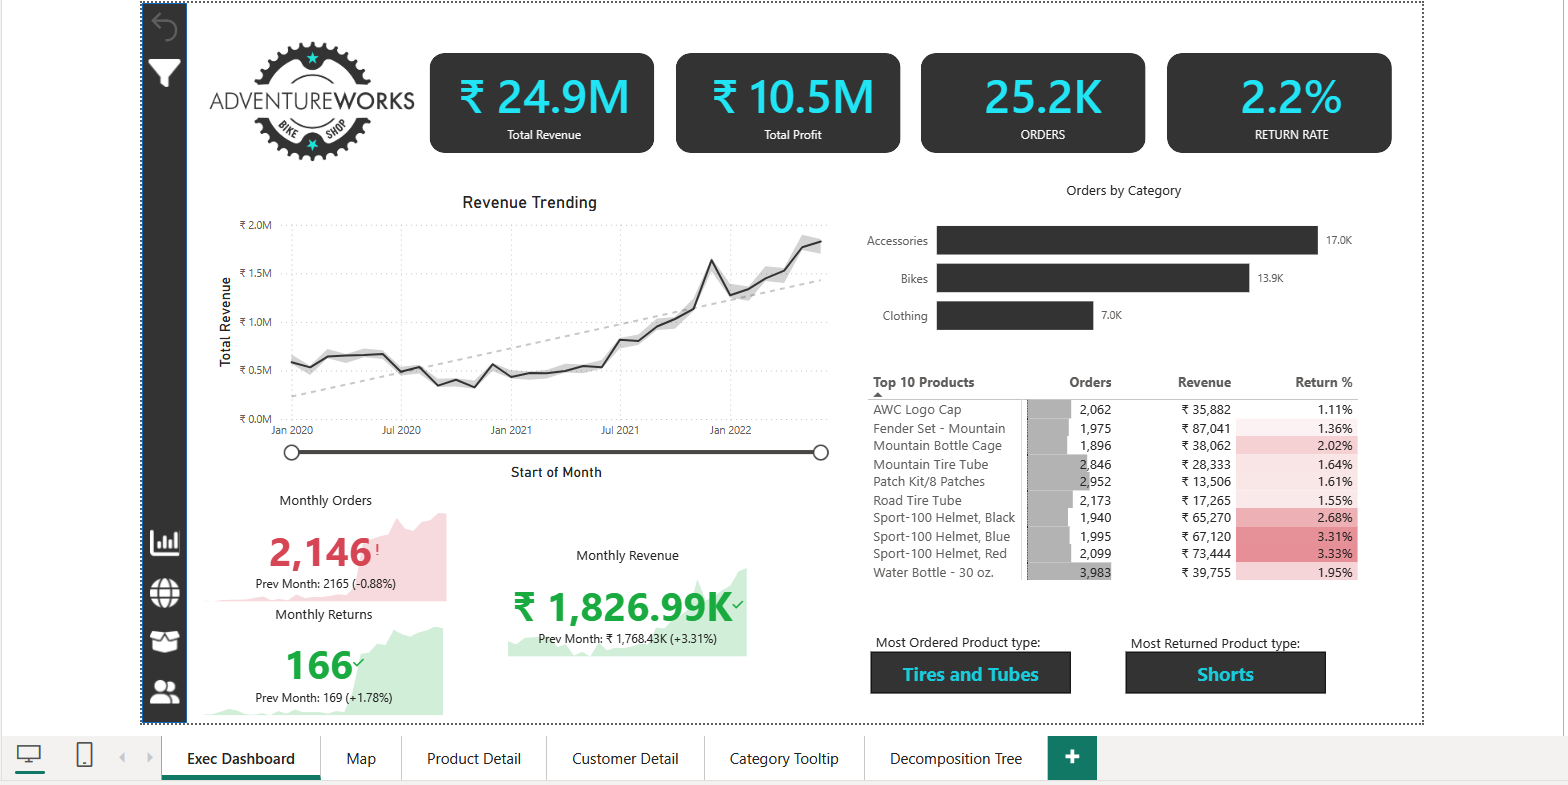

The dashboard page shown, as its layout file describes it:
{"tool":"powerbi","page":{"name":"Exec Dashboard","canvas":[1280,720],"ordinal":0},"visuals":[{"type":"image","title":"AW Logo","box":[45,10,251.2,176.2],"z":0},{"type":"cardVisual","fields":{"Data":["Measure Table.Total Revenue"]},"box":[270.6,11.2,262.2,176.7],"z":0,"group":"g2"},{"type":"shape","box":[286.5,50,225,100],"z":0,"group":"g1"},{"type":"group","id":"g1","title":"KPI Background","box":[286.5,50,962.5,100],"z":0,"group":"g3"},{"type":"actionButton","box":[0,521.2,45,37.5],"z":0,"group":"g4"},{"type":"shape","title":"Left Nav Background","box":[0,0,45,720],"z":1000},{"type":"group","id":"g2","title":"KPI Values","box":[270.6,11.2,1009.4,176.7],"z":1000,"group":"g3"},{"type":"cardVisual","fields":{"Data":["Measure Table.Total Profit"]},"box":[519.7,11.2,262.2,176.7],"z":1000,"group":"g2"},{"type":"shape","box":[532.3,50,225,100],"z":1000,"group":"g1"},{"type":"actionButton","box":[0,620.4,45,37.5],"z":1000,"group":"g4"},{"type":"group","id":"g3","title":"KPIs","box":[270.6,11.2,1009.4,176.7],"z":2000},{"type":"cardVisual","fields":{"Data":["Measure Table.Total Orders"]},"box":[768.9,11.2,262.2,176.7],"z":2000,"group":"g2"},{"type":"shape","box":[778.2,50,225,100],"z":2000,"group":"g1"},{"type":"actionButton","box":[0,669.9,45,37.5],"z":2000,"group":"g4"},{"type":"cardVisual","fields":{"Data":["Measure Table.Return Rate"]},"box":[1017.7,11.2,262.2,176.7],"z":3000,"group":"g2"},{"type":"shape","box":[1024,50,225,100],"z":3000,"group":"g1"},{"type":"lineChart","title":"Revenue Trending","fields":{"Category":["Calendar Lookup.Date Hierarchy.Start of Month"],"Y":["Measure Table.Total Revenue"]},"box":[70,188.8,635,292.5],"z":3000},{"type":"actionButton","box":[0,570.8,45,37.5],"z":3000,"group":"g4"},{"type":"kpi","title":"Monthly Revenue","fields":{"Goal":["Measure Table.Previous month revenue"],"Indicator":["Measure Table.Total Revenue"],"TrendLine":["Calendar Lookup.Start of Month"]},"box":[361.2,542.5,248.8,116.2],"z":4000},{"type":"kpi","title":"Monthly Orders","fields":{"Goal":["Measure Table.Previous Month Orders"],"Indicator":["Measure Table.Total Orders"],"TrendLine":["Calendar Lookup.Start of Month"]},"box":[57.5,487.5,252.5,116.2],"z":5000},{"type":"kpi","title":"Monthly Returns","fields":{"Goal":["Measure Table.Previous Month Returns"],"Indicator":["Measure Table.Total Returns"],"TrendLine":["Calendar Lookup.Start of Month"]},"box":[57.5,601.2,248.8,116.2],"z":6000},{"type":"clusteredBarChart","title":"Orders by Category","fields":{"Category":["Product Categories Lookup.CategoryName"],"Y":["Measure Table.Total Orders"]},"box":[715,177.5,533.8,171.2],"z":7000},{"type":"pivotTable","fields":{"Rows":["Product Lookup.ProductName"],"Values":["Measure Table.Total Orders","Measure Table.Total Revenue","Measure Table.Return Rate"]},"box":[721.2,365,517.5,241.2],"z":8000},{"type":"cardVisual","fields":{"Data":["Min(Product Subcategories Lookup.SubcategoryName)"]},"box":[729,648.7,200,41.2],"z":9000},{"type":"textbox","box":[729,625,200,35],"z":10000},{"type":"cardVisual","fields":{"Data":["Min(Product Subcategories Lookup.SubcategoryName)"]},"box":[984,648.8,200,41.2],"z":11000},{"type":"textbox","box":[984,626,200,35],"z":12000},{"type":"actionButton","box":[2.5,3.8,42.5,40],"z":13000},{"type":"group","id":"g4","title":"Navigation Buttons","box":[0,521.2,45,186.2],"z":14000},{"type":"actionButton","box":[2.5,50,45,40],"z":15000}]}

Visuals, with their boxes on the page's 1280x720 design canvas (x1, y1, x2, y2). These are canvas units, not pixel positions in the 1568x785 screenshot, which may show the page scaled, cropped or inside an application window:
"AW Logo" image: x1=45, y1=10, x2=296, y2=186
cardVisual - Measure Table.Total Revenue: x1=271, y1=11, x2=533, y2=188
shape: x1=286, y1=50, x2=512, y2=150
"KPI Background" group: x1=286, y1=50, x2=1249, y2=150
actionButton: x1=0, y1=521, x2=45, y2=559
"Left Nav Background" shape: x1=0, y1=0, x2=45, y2=720
"KPI Values" group: x1=271, y1=11, x2=1280, y2=188
cardVisual - Measure Table.Total Profit: x1=520, y1=11, x2=782, y2=188
shape: x1=532, y1=50, x2=757, y2=150
actionButton: x1=0, y1=620, x2=45, y2=658
"KPIs" group: x1=271, y1=11, x2=1280, y2=188
cardVisual - Measure Table.Total Orders: x1=769, y1=11, x2=1031, y2=188
shape: x1=778, y1=50, x2=1003, y2=150
actionButton: x1=0, y1=670, x2=45, y2=707
cardVisual - Measure Table.Return Rate: x1=1018, y1=11, x2=1280, y2=188
shape: x1=1024, y1=50, x2=1249, y2=150
"Revenue Trending" lineChart: x1=70, y1=189, x2=705, y2=481
actionButton: x1=0, y1=571, x2=45, y2=608
"Monthly Revenue" kpi: x1=361, y1=542, x2=610, y2=659
"Monthly Orders" kpi: x1=58, y1=488, x2=310, y2=604
"Monthly Returns" kpi: x1=58, y1=601, x2=306, y2=717
"Orders by Category" clusteredBarChart: x1=715, y1=178, x2=1249, y2=349
pivotTable - Product Lookup.ProductName x Measure Table.Total Orders: x1=721, y1=365, x2=1239, y2=606
cardVisual - Min(Product Subcategories Lookup.SubcategoryName): x1=729, y1=649, x2=929, y2=690
textbox: x1=729, y1=625, x2=929, y2=660
cardVisual - Min(Product Subcategories Lookup.SubcategoryName): x1=984, y1=649, x2=1184, y2=690
textbox: x1=984, y1=626, x2=1184, y2=661
actionButton: x1=2, y1=4, x2=45, y2=44
"Navigation Buttons" group: x1=0, y1=521, x2=45, y2=707
actionButton: x1=2, y1=50, x2=48, y2=90
